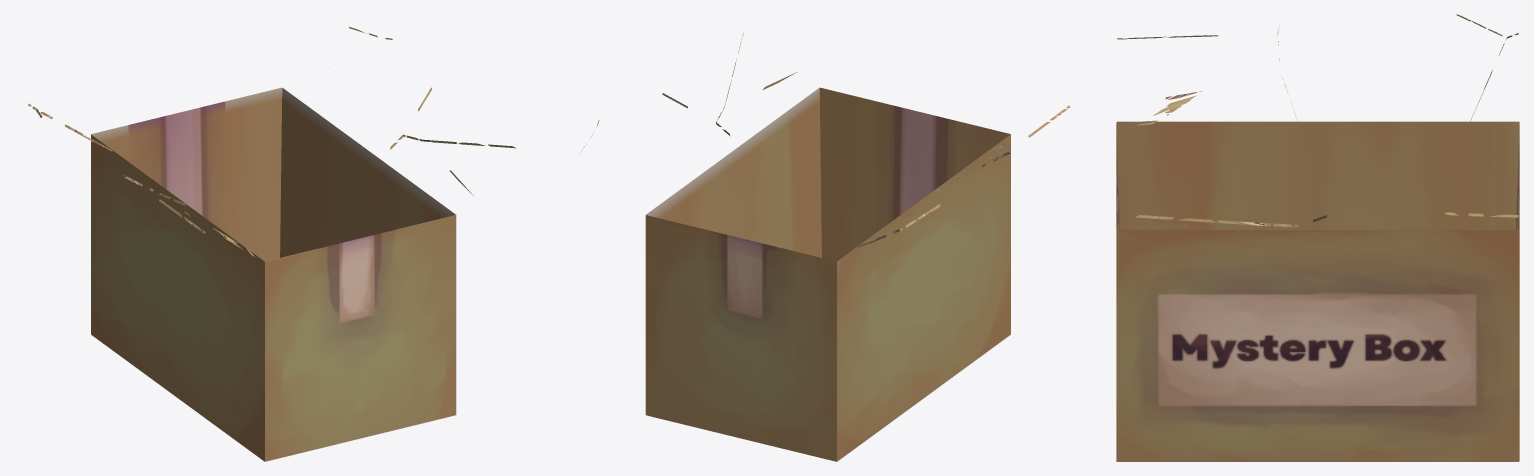
Rendered from OpenBox.fbx.
3 views of the same model, side by side, from view 1: azimuth 30°, elevation 25°; view 2: azimuth 150°, elevation 25°; view 3: azimuth 270°, elevation 25° (orthographic). The views are drawn at different scales.
Parts seen in each view (by area): view 1: Box, Box_cell.008, Box_cell.006, Box_cell.007, Box_cell.002, Box_cell.009, Box_cell.003, Box_cell.005; view 2: Box, Box_cell.005, Box_cell.006, Box_cell.007, Box_cell.008, Box_cell.009, Box_cell.004, Box_cell.002, Box_cell.003, Box_cell; view 3: Box, Box_cell.004, Box_cell.002, Box_cell.007, Box_cell.008, Box_cell, Box_cell.005, Box_cell.006.
Part boxes in pixels (x1,y1,x2,y2): Box: (91,88,456,461); Box_cell.008: (182,87,375,232); Box_cell.006: (198,213,425,338); Box_cell.007: (91,113,198,233); Box_cell.002: (91,223,201,364); Box_cell.009: (374,155,456,268); Box_cell.003: (373,220,456,345); Box_cell.005: (191,172,333,261); Box: (645,87,1010,461); Box_cell.005: (645,232,752,440); Box_cell.006: (850,98,1010,211); Box_cell.007: (744,183,944,349); Box_cell.008: (647,148,743,231); Box_cell.009: (738,92,837,205); Box_cell.004: (741,189,899,261); Box_cell.002: (751,207,947,461); Box_cell.003: (741,134,867,224); Box_cell: (900,211,1010,386); Box: (1116,121,1519,461); Box_cell.004: (1116,322,1309,461); Box_cell.002: (1263,147,1515,229); Box_cell.007: (1270,121,1519,229); Box_cell.008: (1296,176,1519,325); Box_cell: (1119,160,1268,229); Box_cell.005: (1306,321,1519,436); Box_cell.006: (1117,122,1270,203).
Size of the model in its own units: 364 by 256 by 315.
